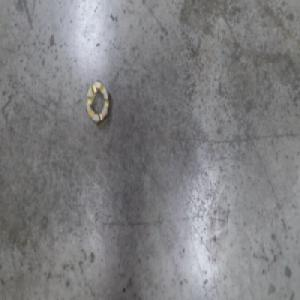Nut: (84, 77, 110, 125)
